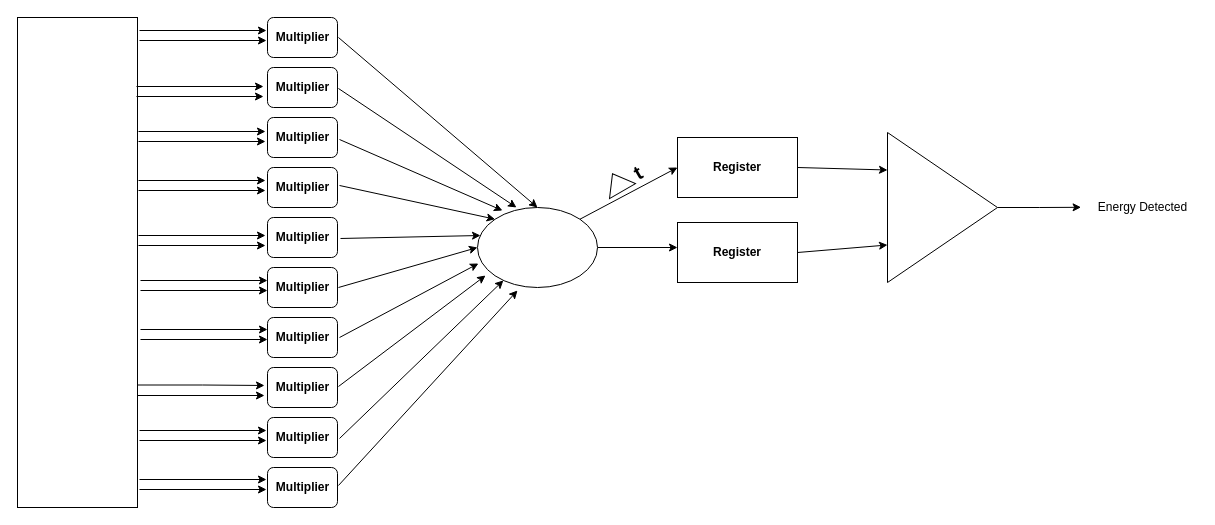
Some shapes in this 1215 by 525 pixel diagram are drawn without their labels. The centre of each missing label's shape, as x and y in pixels:
Adder: point (537, 247)
Comparator: point (942, 207)
Shift Register: point (77, 262)
